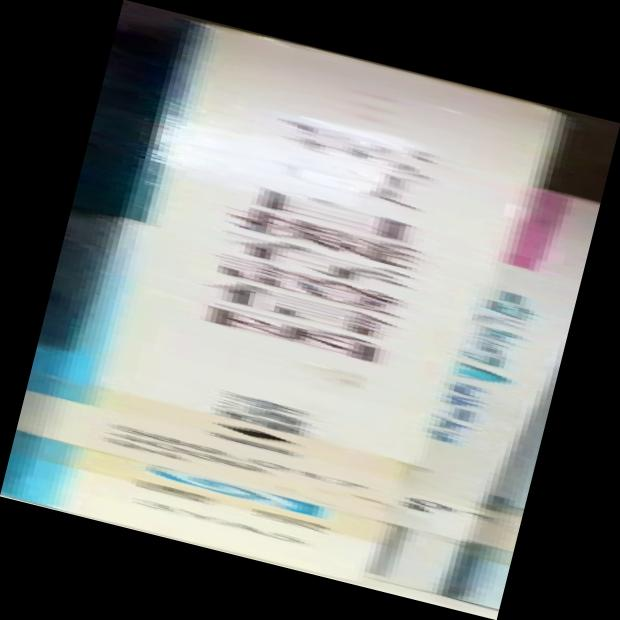book: (1, 1, 616, 620)
